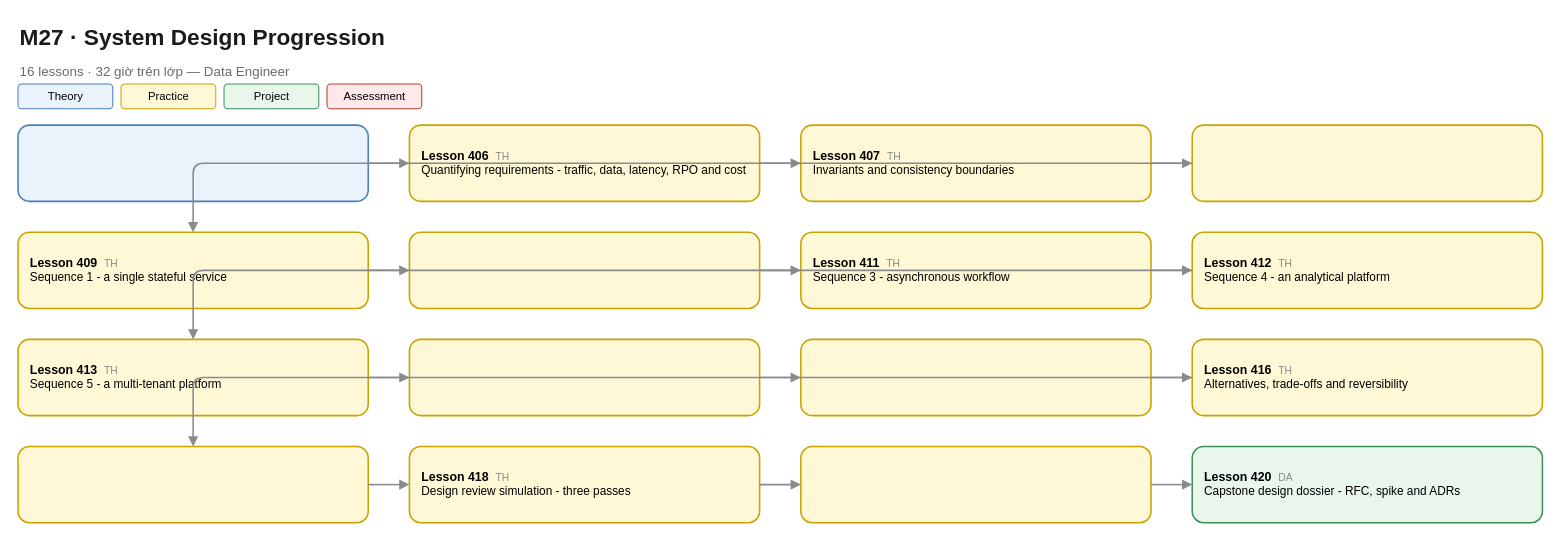
The diagram is 1561 pixels wide and 541 high, and some of its shapes have lost their labels. The shapes that lost their labels are listed below. From the top down, each one's centre as x and y in pixels, then its label:
At (193,163): "Lesson 405 LT The ten-step design process".
At (1367,163): "Lesson 408 TH The capacity sheet - assumptions and sensitivity".
At (584,270): "Lesson 410 TH Sequence 2 - replicated and partitioned".
At (584,377): "Lesson 414 TH The failure table and the remove-component test".
At (975,377): "Lesson 415 TH Cost model and unit economics in a design".
At (193,484): "Lesson 417 TH Migration design - dual run, cutover, rollback".
At (975,484): "Lesson 419 TH The changed-constraint defence".
